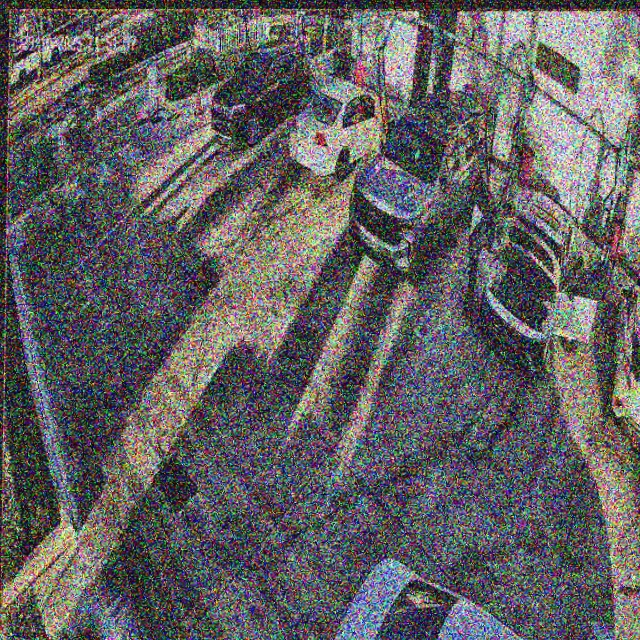Car: (350, 94, 491, 288), (471, 185, 600, 370), (289, 79, 397, 179)
